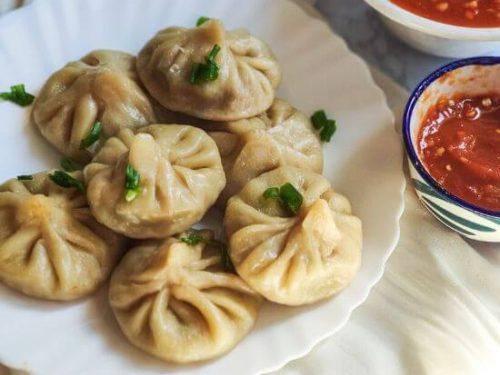momos: (108, 229, 262, 362), (225, 166, 361, 305), (85, 124, 226, 239), (0, 170, 125, 299), (137, 18, 280, 121), (32, 50, 156, 161), (208, 99, 335, 202)
